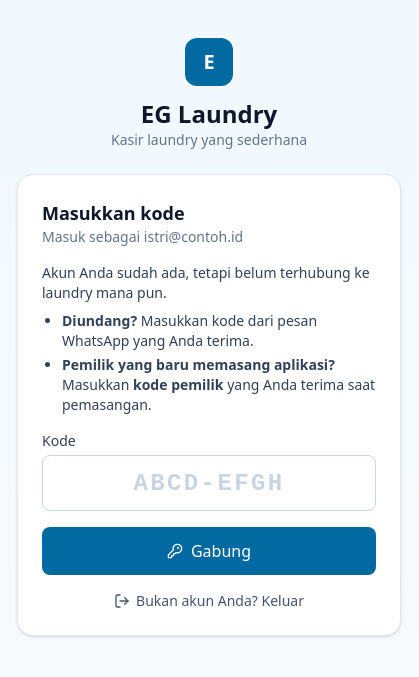
Test: JoinOrganization › formats the code while typing and submits it on Gabung
The width and height of the screenshot is (419, 677).
Later steps or results of the test are not shown.
Type "wxyz2" into the field labelled "Kode" at (209, 483), box [42, 455, 376, 511]
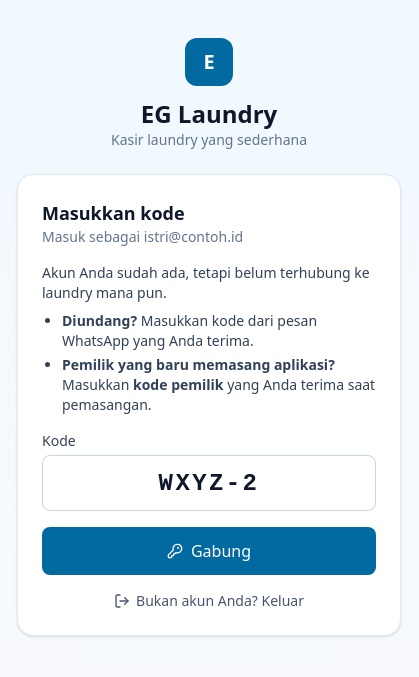
Check: the field labelled "Kode" holds "WXYZ-2", box [42, 455, 376, 511]
Click the button "Gabung" at (209, 551), box [42, 527, 376, 575]
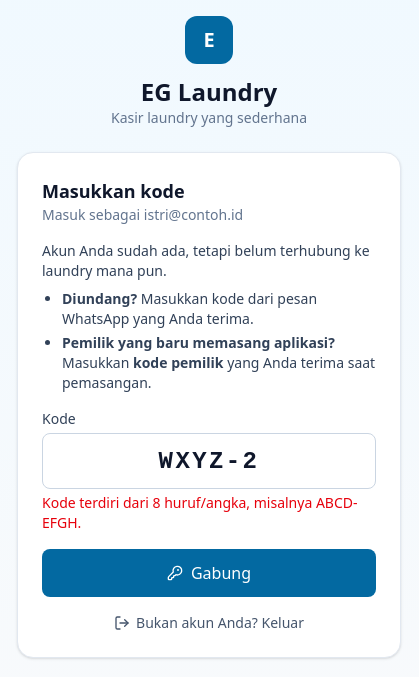
Check: the message shows "8 huruf/angka", box [42, 493, 358, 532]
Replace the text in the field labelled "Kode" with "WXYZ-2345" at (209, 461), box [42, 433, 376, 489]
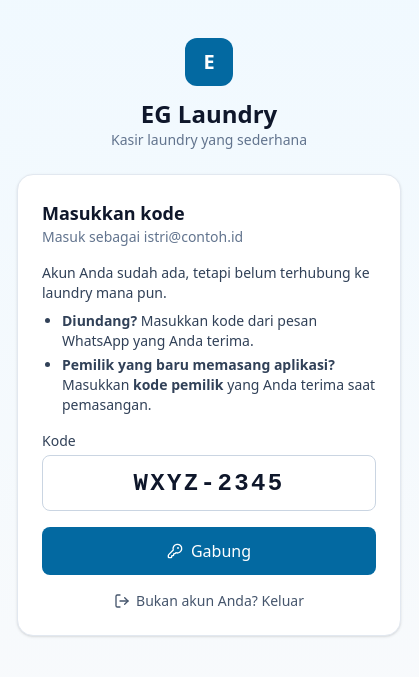
Check: the message "Kode terdiri dari 8 huruf/angka, misalnya ABCD-EFGH." is gone
